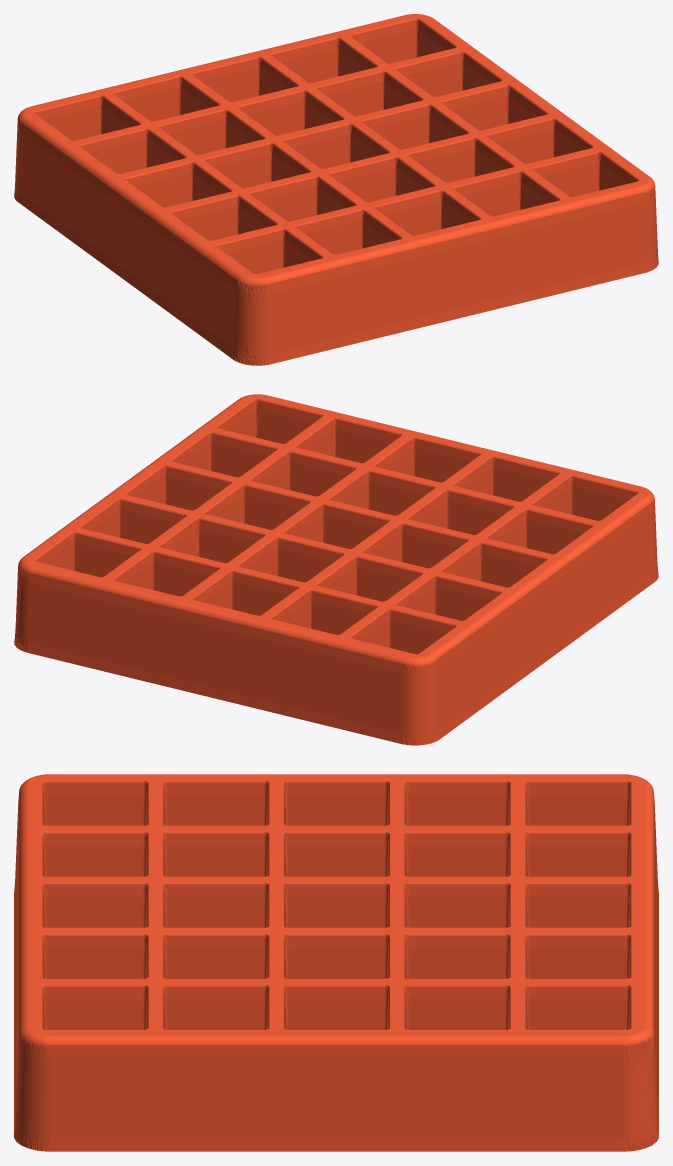
File: mold.glb
3 renders of one model, top to bottom at view 1: azimuth 30°, elevation 25°; view 2: azimuth 150°, elevation 25°; view 3: azimuth 270°, elevation 25°, orthographic. The views are drawn at different scales.
Visible parts, largest first — view 1: geometry_0; view 2: geometry_0; view 3: geometry_0.
Boxes of the visible parts, x1=… form: geometry_0: x1=14, y1=14, x2=658, y2=365; geometry_0: x1=14, y1=394, x2=658, y2=745; geometry_0: x1=14, y1=774, x2=658, y2=1151.
Bounding box in the file's own units: 0.1584 × 0.0299 × 0.1584.
